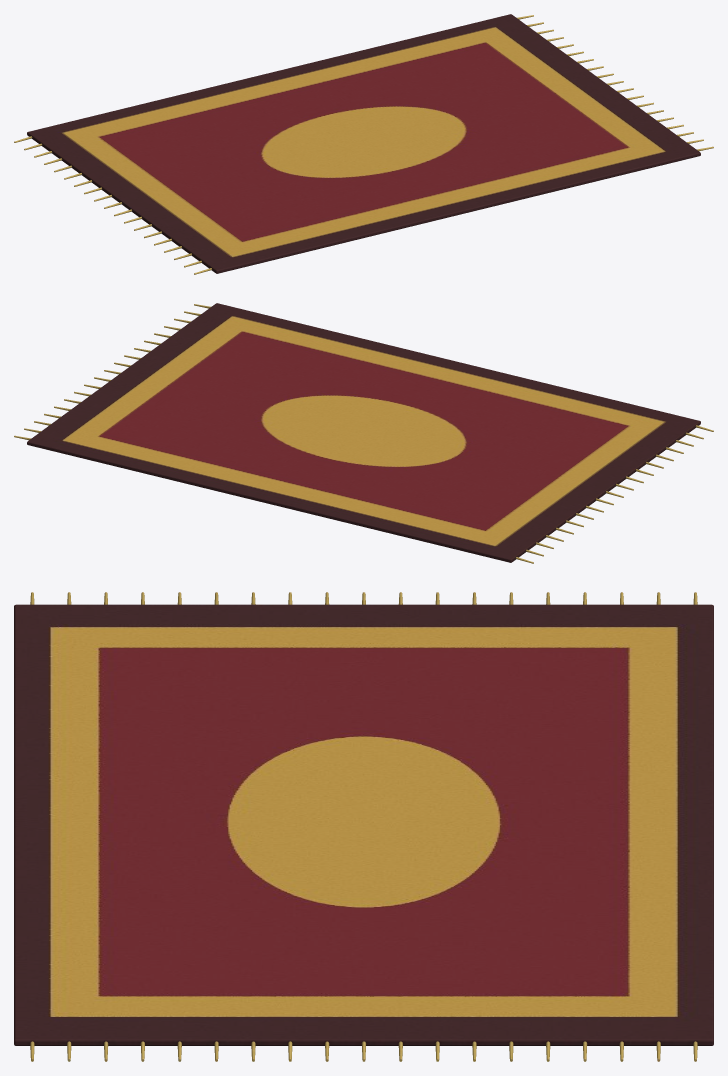
File: deco_tapete_real.glb
The picture shows the model from 3 angles, top to bottom: view 1: azimuth 30°, elevation 25°; view 2: azimuth 150°, elevation 25°; view 3: azimuth 270°, elevation 25°; orthographic projection. The views are drawn at different scales.
Visible parts, largest first — view 1: deco_tapete_real_tronco; view 2: deco_tapete_real_tronco; view 3: deco_tapete_real_tronco.
Part boxes in pixels (bbox=[...]): deco_tapete_real_tronco: bbox=[14, 14, 713, 274]; deco_tapete_real_tronco: bbox=[14, 303, 713, 563]; deco_tapete_real_tronco: bbox=[14, 592, 713, 1061].
Size of the model in its own units: 3 by 0.02 by 1.9.
Materials: 1 (1 with a texture image).
